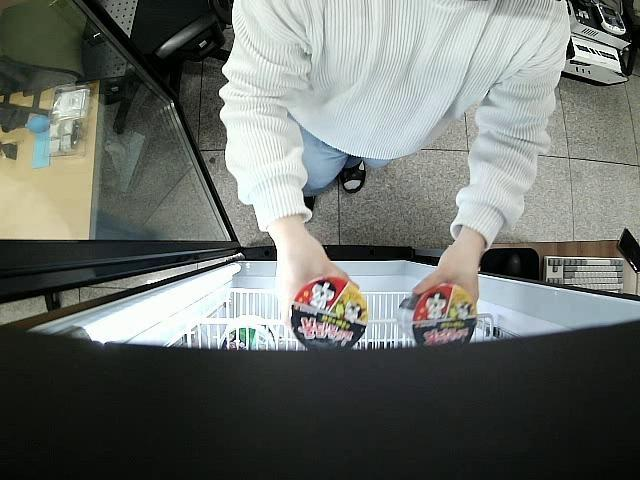08_buldak_S: (290, 279, 371, 354), (395, 286, 478, 348)
